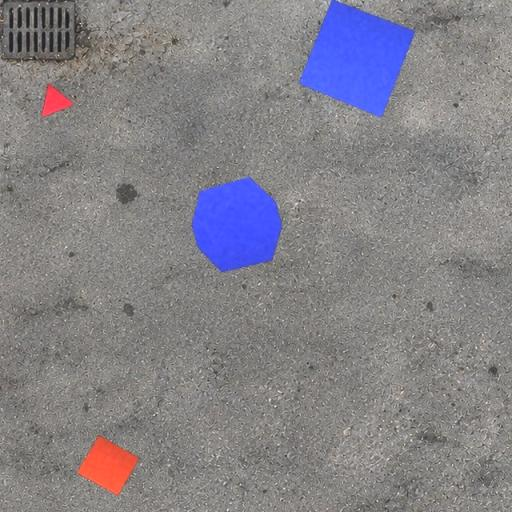BLUE_SQUARE: (298, 0, 416, 118)
RED_SQUARE: (77, 434, 140, 496)
